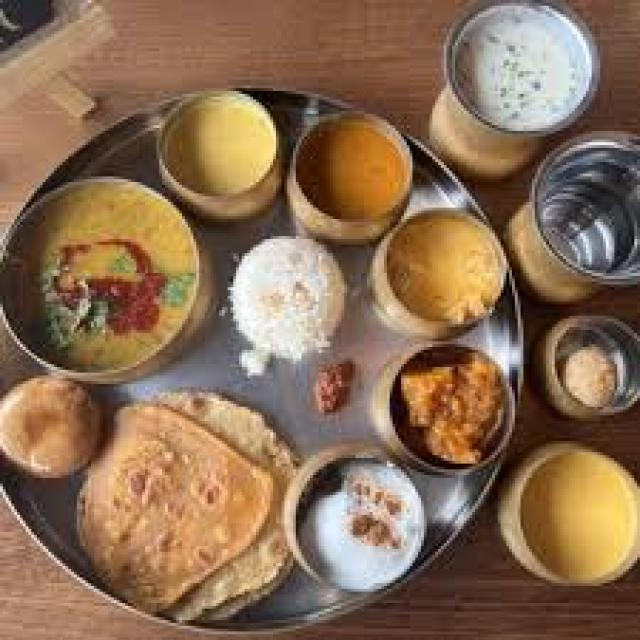dal: (376, 214, 509, 335), (293, 115, 419, 227), (169, 90, 283, 205)
pickle: (303, 458, 431, 582), (301, 362, 369, 415)
rice: (452, 9, 596, 142), (218, 234, 355, 364)
roti: (77, 402, 283, 611)
sambar-rasam: (291, 111, 417, 230)
sweet: (383, 344, 517, 471), (542, 328, 637, 415)
